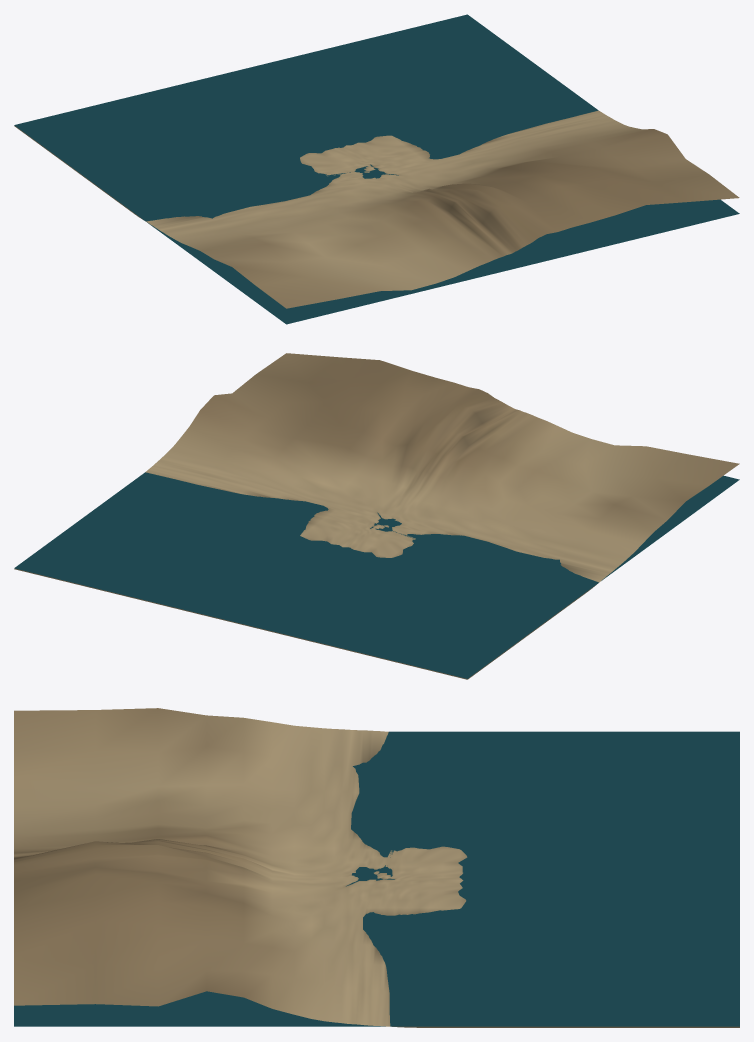
3 views of the same model, one above another, from view 1: azimuth 30°, elevation 25°; view 2: azimuth 150°, elevation 25°; view 3: azimuth 270°, elevation 25° (orthographic). The views are drawn at different scales.
Parts seen in each view (by area): view 1: terrain-ch02.001; view 2: terrain-ch02.001; view 3: terrain-ch02.001.
Boxes of the visible parts, x1,y1,x2,y2 form: terrain-ch02.001: [14, 14, 739, 324]; terrain-ch02.001: [14, 353, 739, 679]; terrain-ch02.001: [14, 708, 739, 1027].
Size of the model in its own units: 3188 by 284 by 3316.
